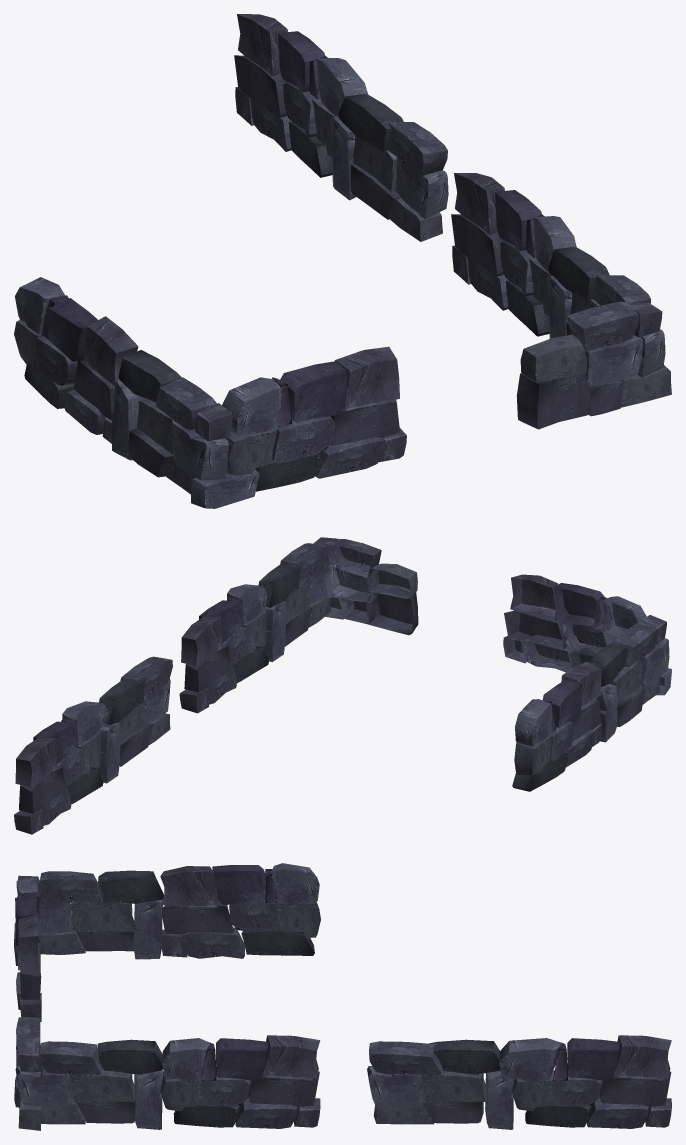
Rendered from Stone wall.FBX.
3 renders of one model, top to bottom at view 1: azimuth 30°, elevation 25°; view 2: azimuth 150°, elevation 25°; view 3: azimuth 270°, elevation 25°, orthographic. The views are drawn at different scales.
Visible parts, largest first — view 1: stone wall01, stone wall02, stone wall03; view 2: stone wall01, stone wall02, stone wall03; view 3: stone wall01, stone wall02, stone wall03.
Part boxes in pixels (x1,y1,x2,y2): stone wall01: (14,277,406,508); stone wall02: (451,173,671,429); stone wall03: (234,14,448,241); stone wall01: (503,574,671,791); stone wall02: (179,537,418,713); stone wall03: (14,656,172,834); stone wall01: (14,863,320,1021); stone wall02: (14,1017,320,1130); stone wall03: (367,1035,671,1129).
Bounding box in the file's own units: 247 × 57.96 × 363.
